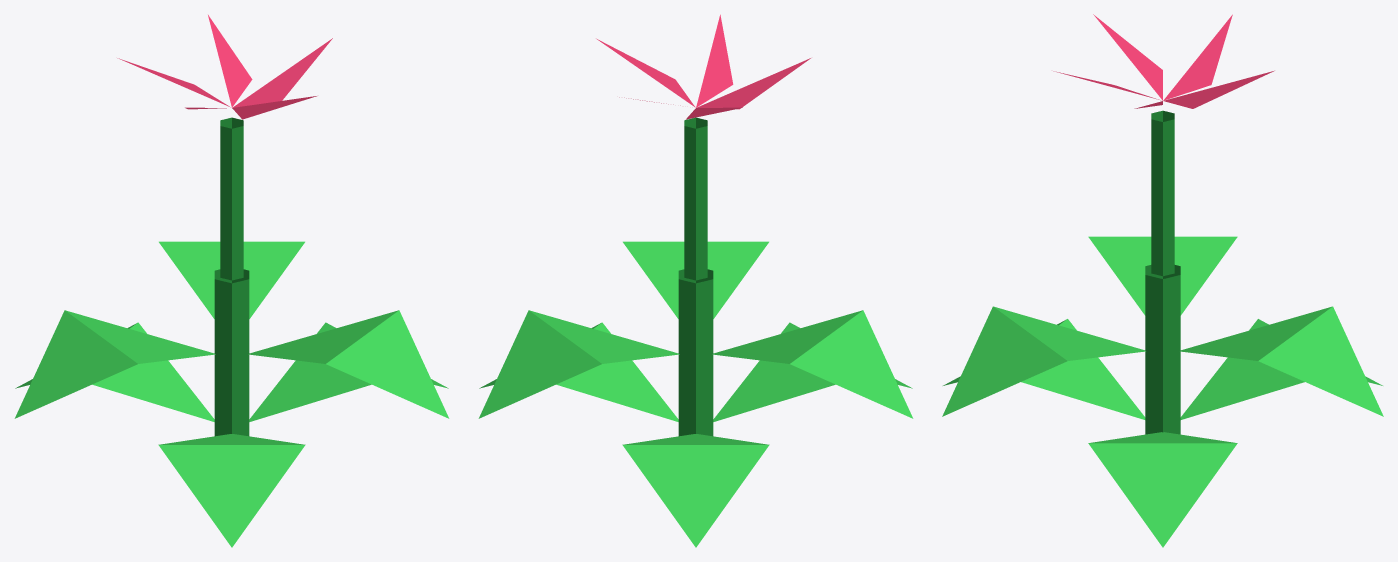
File: medicinal_herb.obj
3 views of the same model, side by side, from view 1: azimuth 30°, elevation 25°; view 2: azimuth 150°, elevation 25°; view 3: azimuth 270°, elevation 25° (orthographic).
Bounding box in the file's own units: 1.5 × 1.5 × 1.3.
